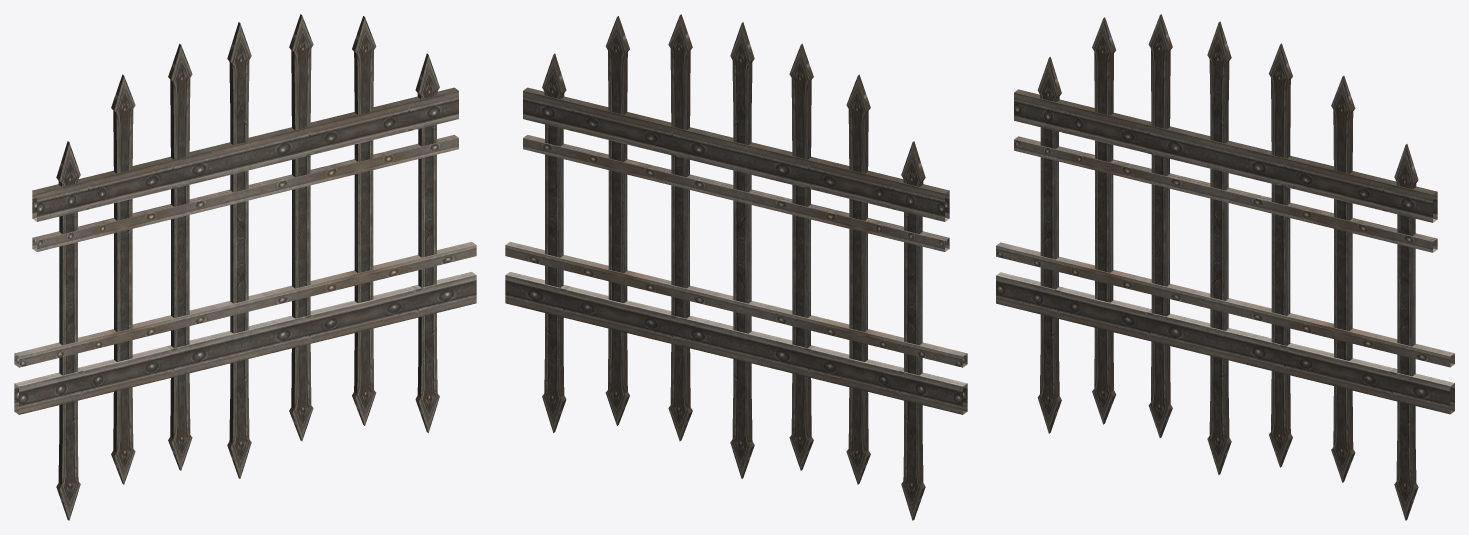
File: Map_045_weapon06.FBX
3 views of the same model, side by side, from view 1: azimuth 30°, elevation 25°; view 2: azimuth 150°, elevation 25°; view 3: azimuth 330°, elevation 25° (orthographic).
Visible parts, largest first — view 1: Map_045_weapon061; view 2: Map_045_weapon061; view 3: Map_045_weapon061.
Part boxes in pixels (box(x1,y1,x2,y2)): Map_045_weapon061: box(14, 14, 476, 520); Map_045_weapon061: box(505, 14, 967, 520); Map_045_weapon061: box(996, 14, 1454, 520).
Size of the model in its own units: 7.52 by 7.17 by 0.1294.
